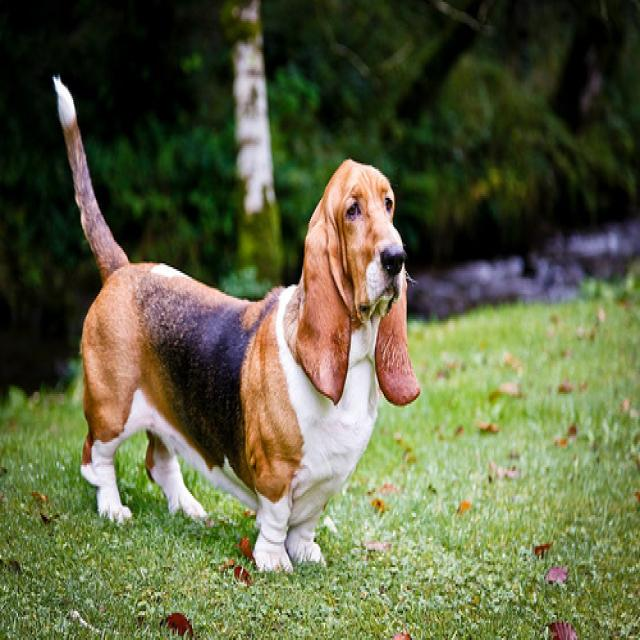dog-basset_hound: (47, 62, 429, 578)
